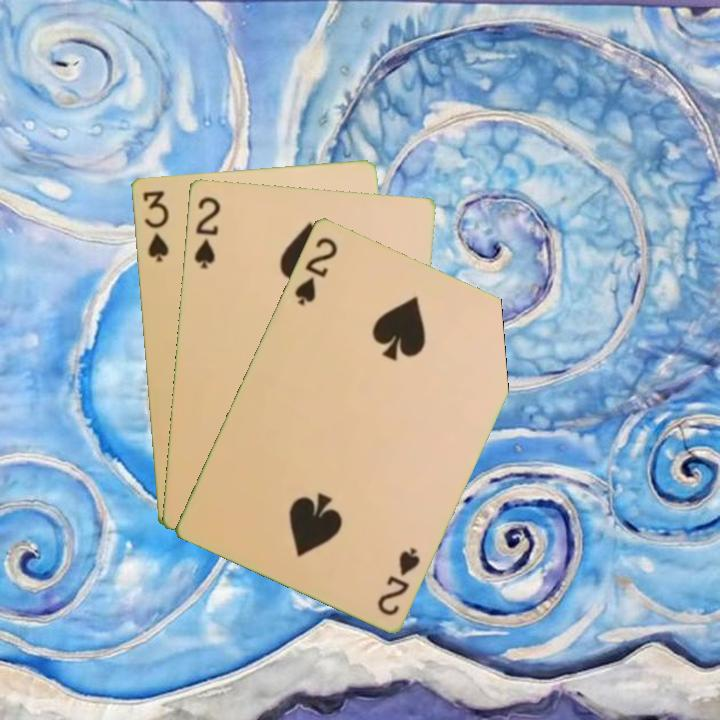2s: (373, 543, 423, 619), (291, 233, 341, 308), (190, 193, 223, 271)
3s: (139, 187, 172, 265)
